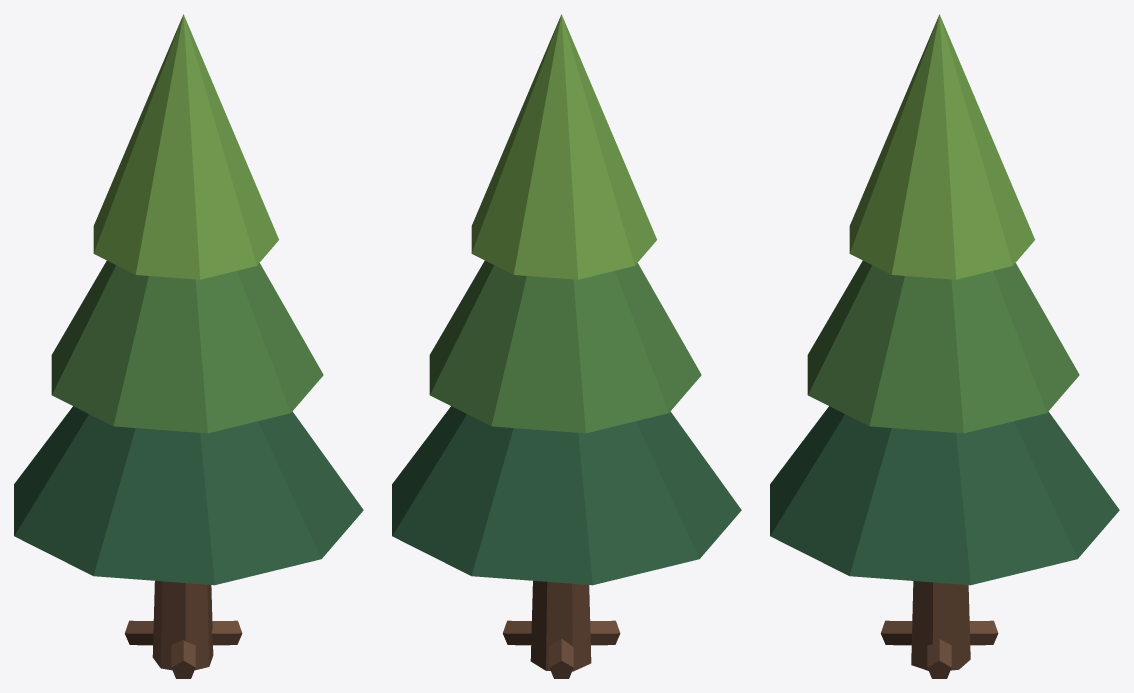
Rendered from tree_pine.glb.
3 renders of one model, left to right at view 1: azimuth 30°, elevation 25°; view 2: azimuth 150°, elevation 25°; view 3: azimuth 270°, elevation 25°, orthographic.
Visible parts, largest first — view 1: Pine_foliage_tier, Pine_foliage_tier.001, Pine_foliage_tier.002, Pine_trunk, Pine_root.002, Pine_root, Pine_root.001; view 2: Pine_foliage_tier, Pine_foliage_tier.001, Pine_foliage_tier.002, Pine_trunk, Pine_root.001, Pine_root.002, Pine_root; view 3: Pine_foliage_tier, Pine_foliage_tier.001, Pine_foliage_tier.002, Pine_trunk, Pine_root, Pine_root.002, Pine_root.001.
Boxes of the visible parts, left/top/right/bottom form: Pine_foliage_tier: left=14, top=406, right=363, bottom=585; Pine_foliage_tier.001: left=51, top=260, right=323, bottom=433; Pine_foliage_tier.002: left=93, top=14, right=278, bottom=279; Pine_trunk: left=152, top=581, right=213, bottom=670; Pine_root.002: left=171, top=640, right=195, bottom=678; Pine_root: left=211, top=620, right=242, bottom=645; Pine_root.001: left=124, top=620, right=153, bottom=645; Pine_foliage_tier: left=392, top=406, right=741, bottom=585; Pine_foliage_tier.001: left=429, top=260, right=701, bottom=433; Pine_foliage_tier.002: left=471, top=14, right=656, bottom=279; Pine_trunk: left=530, top=581, right=591, bottom=671; Pine_root.001: left=549, top=638, right=573, bottom=678; Pine_root.002: left=590, top=620, right=620, bottom=645; Pine_root: left=502, top=620, right=531, bottom=645; Pine_foliage_tier: left=770, top=406, right=1119, bottom=585; Pine_foliage_tier.001: left=807, top=260, right=1079, bottom=433; Pine_foliage_tier.002: left=849, top=14, right=1034, bottom=279; Pine_trunk: left=911, top=581, right=970, bottom=670; Pine_root: left=927, top=639, right=951, bottom=678; Pine_root.002: left=880, top=620, right=912, bottom=645; Pine_root.001: left=969, top=620, right=998, bottom=645.
Size of the model in its own units: 1.6 by 3.2 by 1.57.
